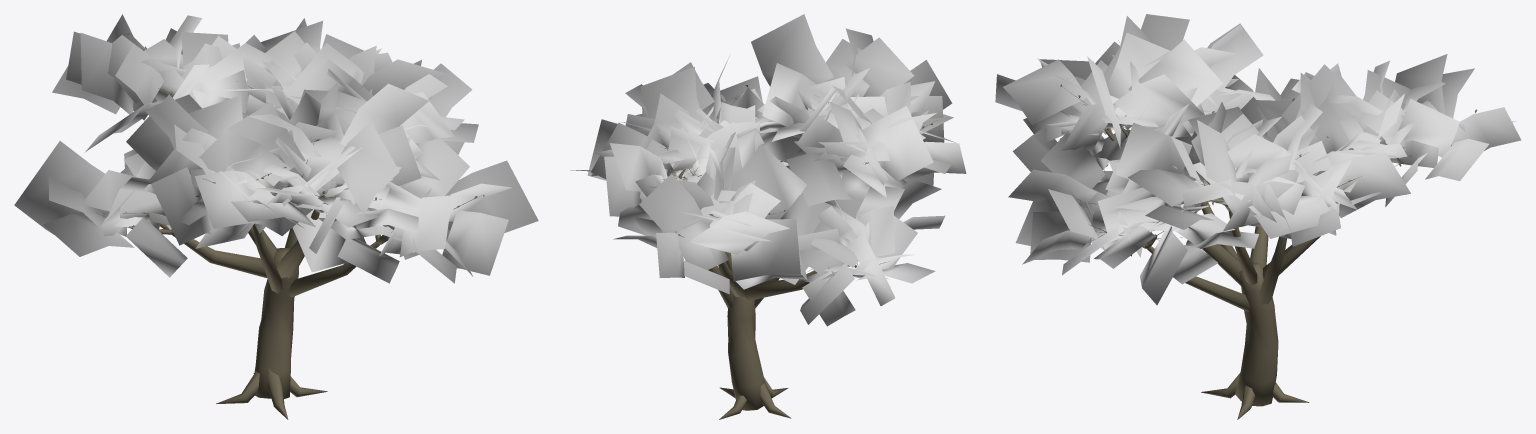
File: V7_Oleastre_0_Niveau1.fbx
3 views of the same model, side by side, from view 1: azimuth 30°, elevation 25°; view 2: azimuth 150°, elevation 25°; view 3: azimuth 270°, elevation 25° (orthographic). The views are drawn at different scales.
Visible parts, largest first — view 1: V7_Oleastre_0_Detail1; view 2: V7_Oleastre_0_Detail1; view 3: V7_Oleastre_0_Detail1.
Part boxes in pixels (x1,y1,x2,y2): V7_Oleastre_0_Detail1: (14, 14, 538, 419); V7_Oleastre_0_Detail1: (570, 14, 966, 419); V7_Oleastre_0_Detail1: (995, 14, 1521, 419).
Bounding box in the file's own units: 471 × 441 × 587.
